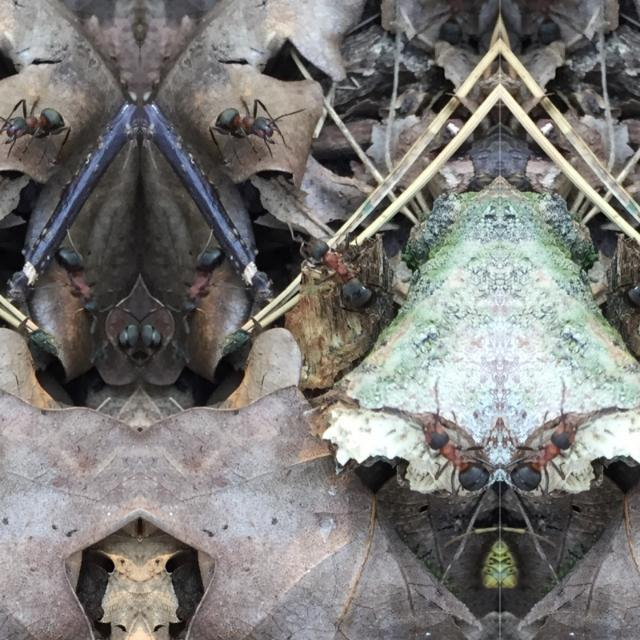Formica: (289, 217, 401, 317), (404, 406, 498, 498), (502, 406, 596, 498), (46, 228, 100, 332), (180, 228, 233, 332), (216, 89, 296, 150), (598, 217, 640, 317), (0, 88, 64, 148), (140, 301, 186, 379), (94, 301, 140, 379)
